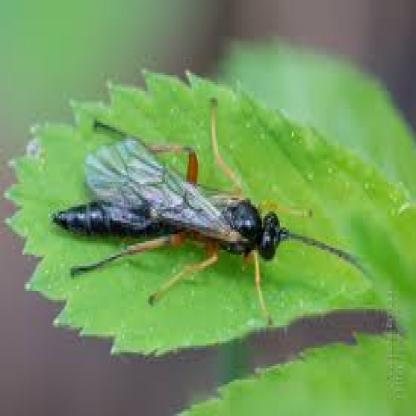sawfly: (54, 95, 366, 312)
